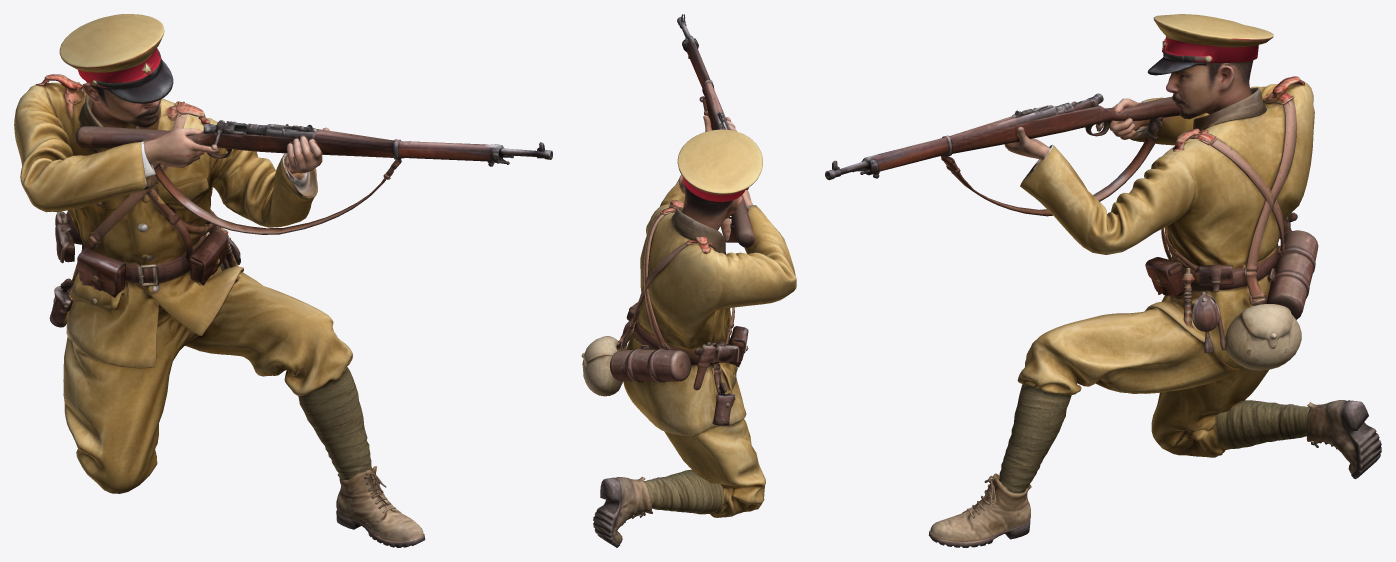
File: soldier_2-a58a735711.glb
3 views of the same model, side by side, from view 1: azimuth 30°, elevation 25°; view 2: azimuth 150°, elevation 25°; view 3: azimuth 270°, elevation 25° (orthographic). The views are drawn at different scales.
Parts seen in each view (by area): view 1: tripo_node_82188e95-7124-4d13-9d3c-c4fdc0d98878; view 2: tripo_node_82188e95-7124-4d13-9d3c-c4fdc0d98878; view 3: tripo_node_82188e95-7124-4d13-9d3c-c4fdc0d98878.
Boxes of the visible parts, x1,y1,x2,y2 form: tripo_node_82188e95-7124-4d13-9d3c-c4fdc0d98878: (14, 14, 552, 547); tripo_node_82188e95-7124-4d13-9d3c-c4fdc0d98878: (581, 14, 796, 547); tripo_node_82188e95-7124-4d13-9d3c-c4fdc0d98878: (825, 14, 1381, 547).
Bounding box in the file's own units: 0.689 × 0.896 × 0.9995.
1 material, 1 textured.
